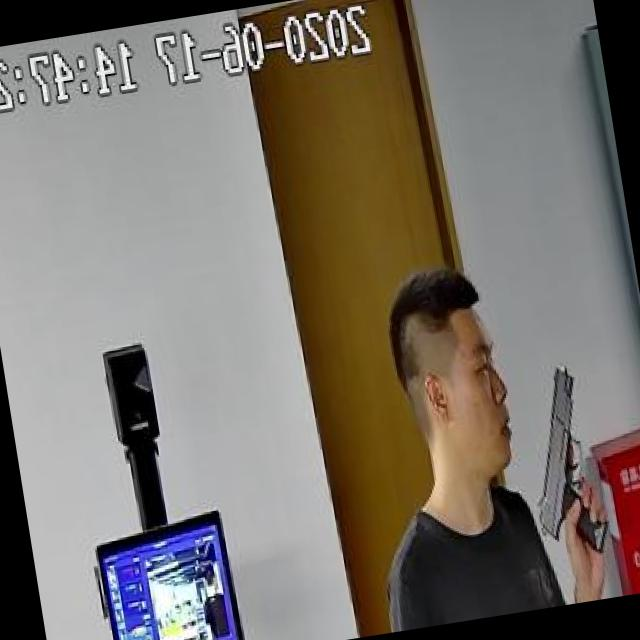Guns: (475, 332, 640, 589)
